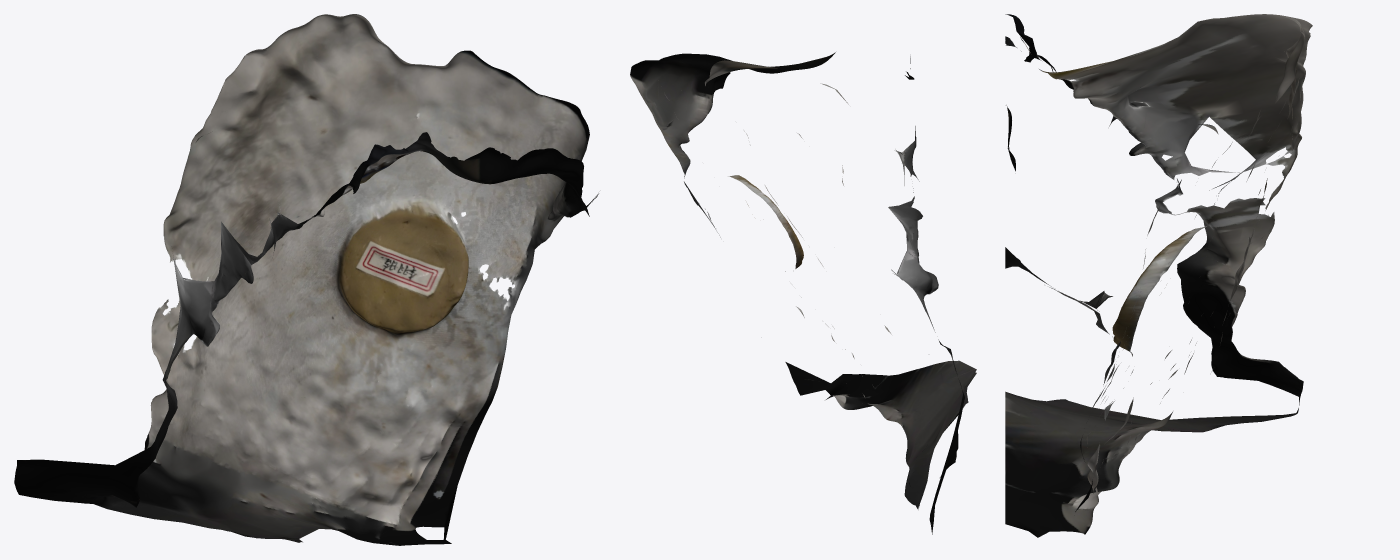
3 renders of one model, left to right at view 1: azimuth 30°, elevation 25°; view 2: azimuth 150°, elevation 25°; view 3: azimuth 270°, elevation 25°, orthographic. The views are drawn at different scales.
Bounding box in the file's own units: 0.8488 × 0.7969 × 0.543.
1 material, 1 textured.
